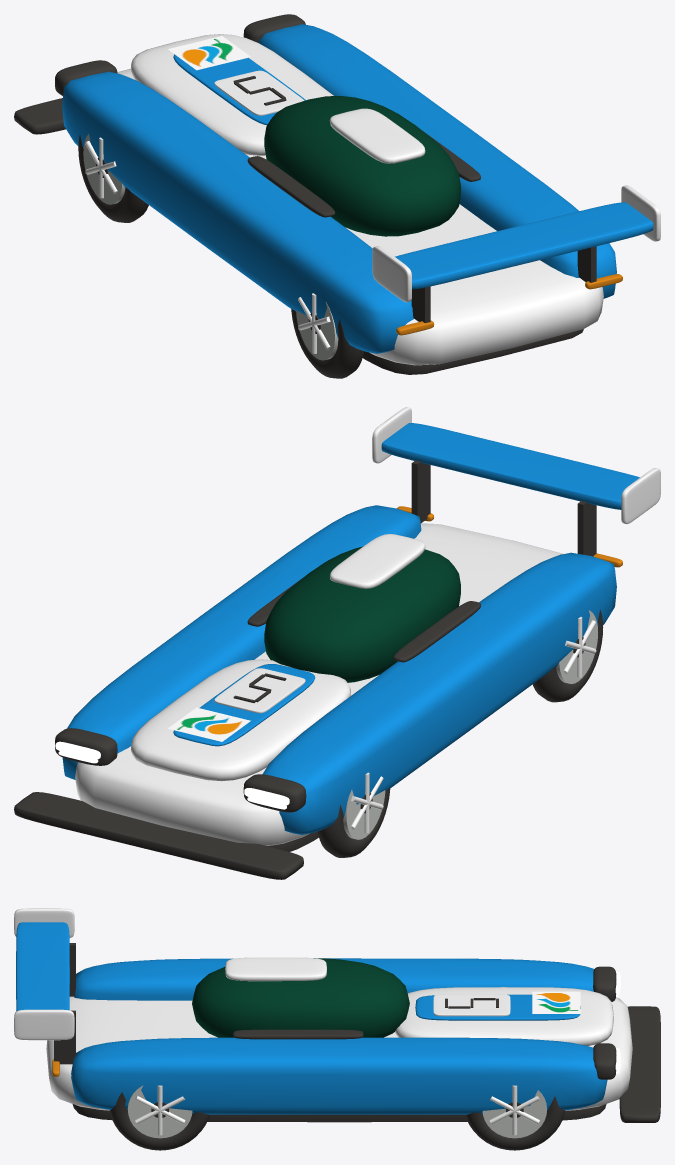
Rendered from car_5.glb.
3 renders of one model, top to bottom at view 1: azimuth 30°, elevation 25°; view 2: azimuth 150°, elevation 25°; view 3: azimuth 270°, elevation 25°, orthographic. The views are drawn at different scales.
Visible parts, largest first — view 1: instance_blue, instance_white, instance_darkgreen, instance_ink, wheel_ink, wheel_stone, brand-mark-car-5, wheel_white, wing-support_ink, instance_amber; view 2: instance_blue, instance_white, instance_darkgreen, instance_ink, wheel_ink, wing-support_ink, wheel_stone, brand-mark-car-5, wheel_white, instance_lamp_white; view 3: instance_blue, instance_white, instance_darkgreen, instance_ink, wheel_ink, wheel_stone, wheel_white, brand-mark-car-5, wing-support_ink.
Part boxes in pixels (bbox=[...]): instance_blue: bbox=[62, 24, 653, 353]; instance_white: bbox=[117, 34, 660, 365]; instance_darkgreen: bbox=[264, 96, 460, 236]; instance_ink: bbox=[14, 14, 583, 374]; wheel_ink: bbox=[78, 135, 363, 378]; wheel_stone: bbox=[83, 134, 338, 360]; brand-mark-car-5: bbox=[168, 36, 250, 70]; wheel_white: bbox=[85, 137, 330, 353]; wing-support_ink: bbox=[411, 246, 596, 323]; instance_amber: bbox=[396, 274, 622, 335]; instance_blue: bbox=[62, 423, 639, 834]; instance_white: bbox=[75, 407, 660, 845]; instance_darkgreen: bbox=[264, 546, 460, 682]; instance_ink: bbox=[14, 578, 480, 879]; wheel_ink: bbox=[317, 610, 603, 857]; wing-support_ink: bbox=[411, 460, 596, 556]; wheel_stone: bbox=[343, 610, 597, 839]; brand-mark-car-5: bbox=[168, 707, 250, 741]; wheel_white: bbox=[351, 617, 596, 833]; instance_lamp_white: bbox=[55, 741, 289, 809]; instance_blue: bbox=[16, 922, 607, 1114]; instance_white: bbox=[14, 908, 632, 1110]; instance_darkgreen: bbox=[192, 958, 409, 1037]; instance_ink: bbox=[72, 966, 660, 1122]; wheel_ink: bbox=[109, 1092, 565, 1150]; wheel_stone: bbox=[127, 1085, 547, 1138]; wheel_white: bbox=[135, 1085, 539, 1135]; brand-mark-car-5: bbox=[532, 991, 580, 1013]; wing-support_ink: bbox=[54, 943, 75, 1064].
Bounding box in the file's own units: 1.95 × 1.16 × 4.8.
Materials: 8 (1 with a texture image).
